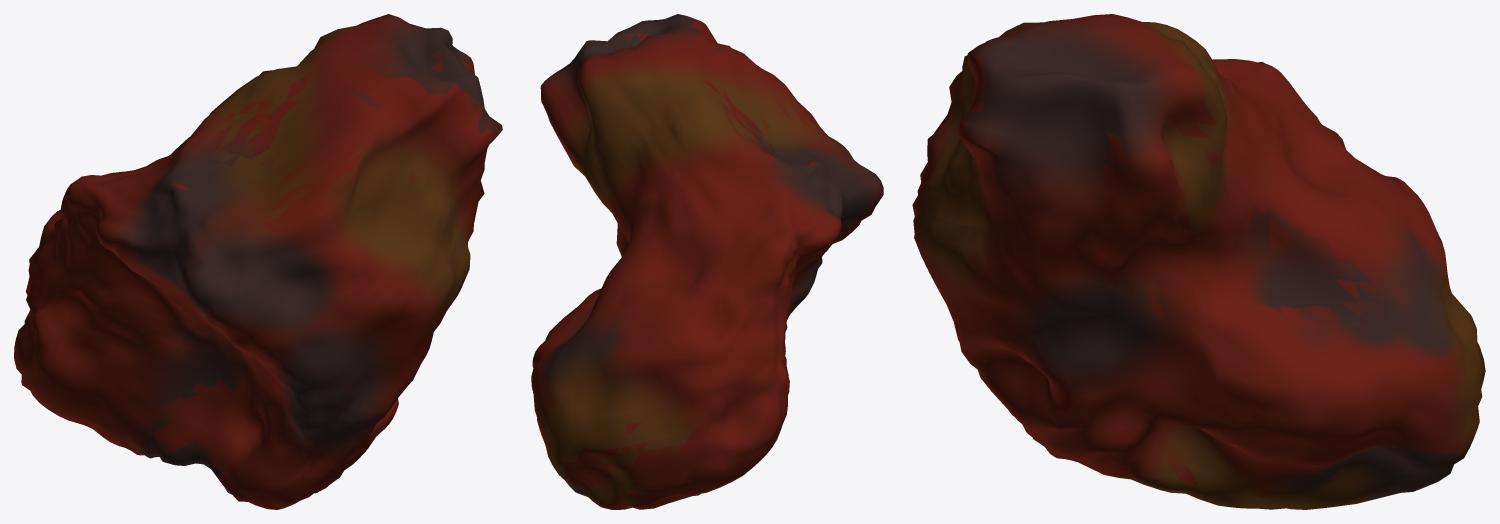
The model's file is ELEKTRA_big.glb.
3 views of the same model, side by side, from view 1: azimuth 30°, elevation 25°; view 2: azimuth 150°, elevation 25°; view 3: azimuth 270°, elevation 25° (orthographic). The views are drawn at different scales.
Visible parts, largest first — view 1: Elektra; view 2: Elektra; view 3: Elektra.
Part boxes in pixels (<box>): Elektra: <box>14,14,502,509</box>; Elektra: <box>531,14,883,509</box>; Elektra: <box>912,14,1485,509</box>.
Bounding box in the file's own units: 18.59 × 22.15 × 22.23.
Materials: 1 (1 with a texture image).
